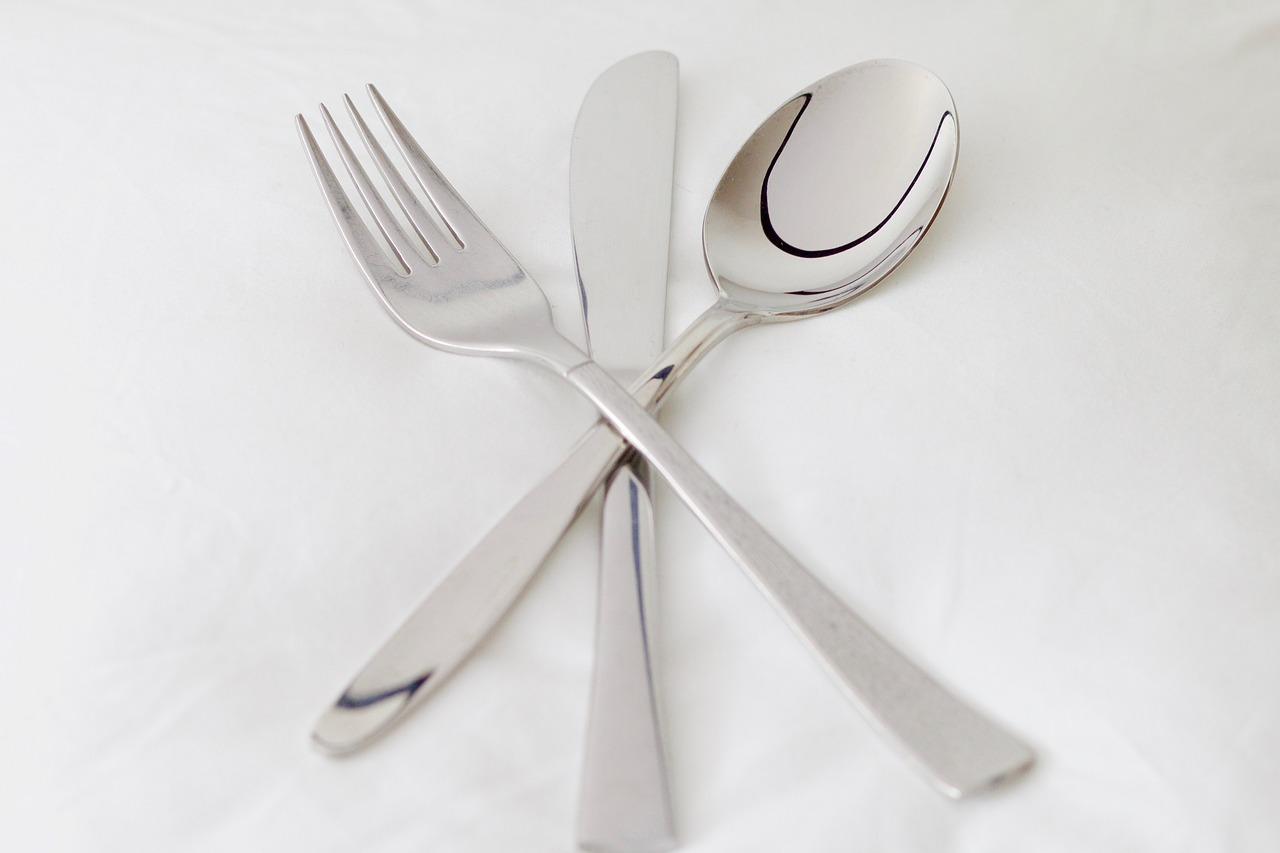knife: (568, 43, 686, 851)
